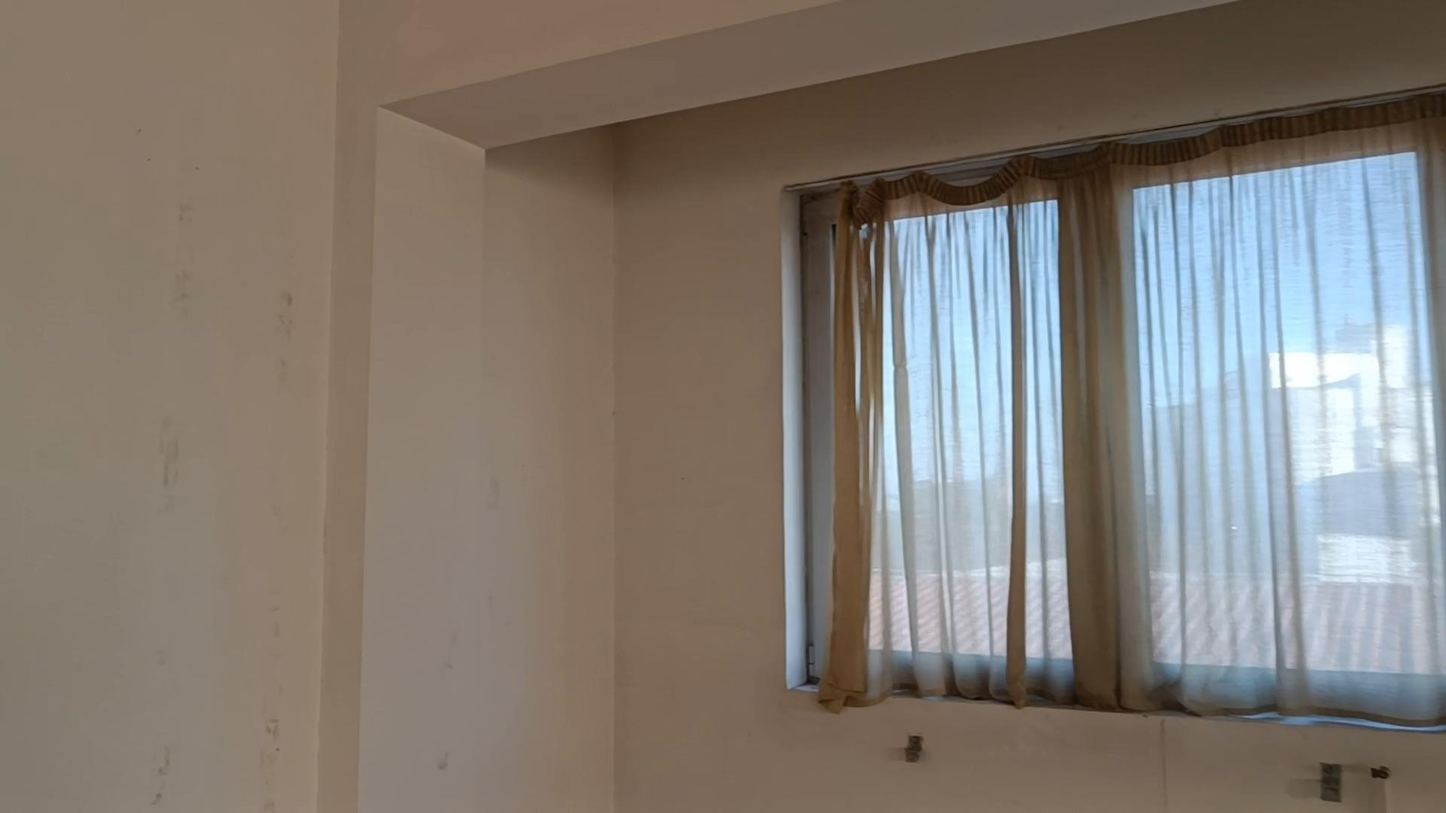ceiling: (375, 0, 1229, 148), (1243, 0, 1445, 90)
wall: (0, 0, 1445, 812)
